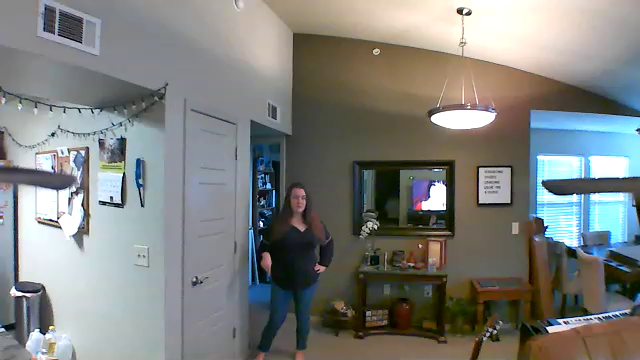down: (257, 246, 274, 285)
